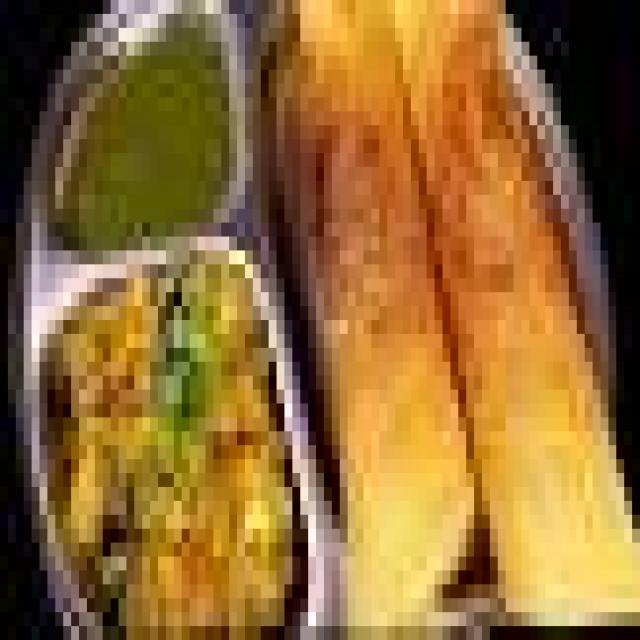DOSA: (245, 0, 498, 612)
